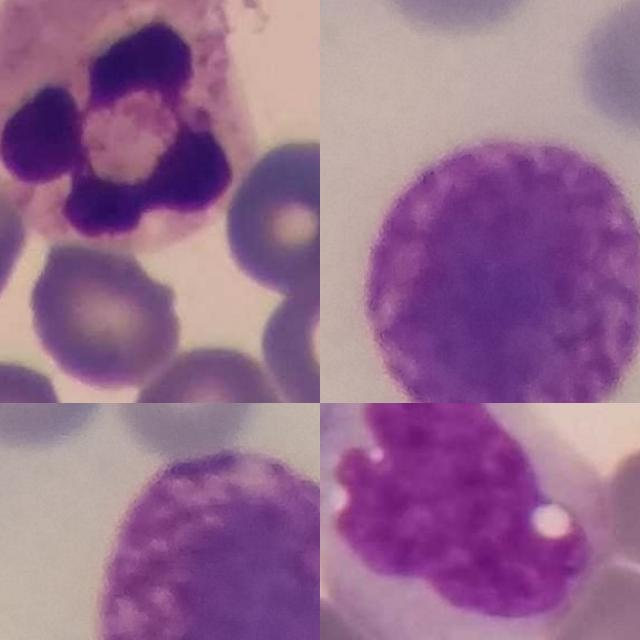Basophil: (368, 140, 640, 403), (99, 445, 320, 640)
Monocyte: (320, 403, 608, 640)
Neutrophil: (0, 0, 245, 249)
